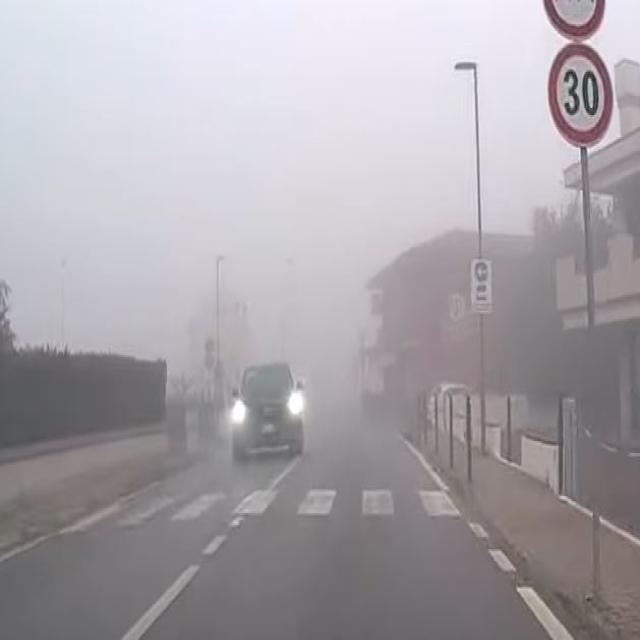Pedestrian crosswalk: (90, 489, 464, 519)
